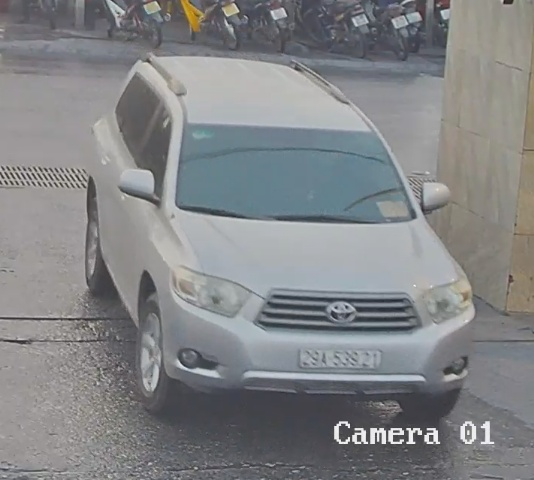vehicle plate: (292, 345, 384, 372)
